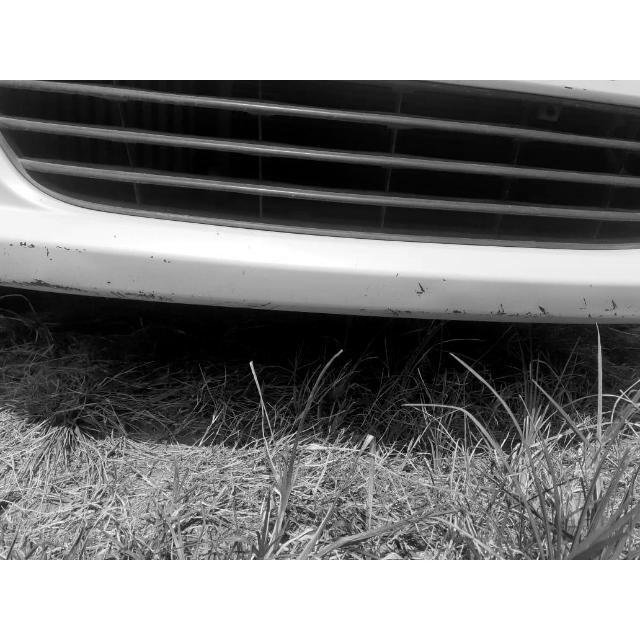front-bumper-dent: (1, 115, 640, 338)
